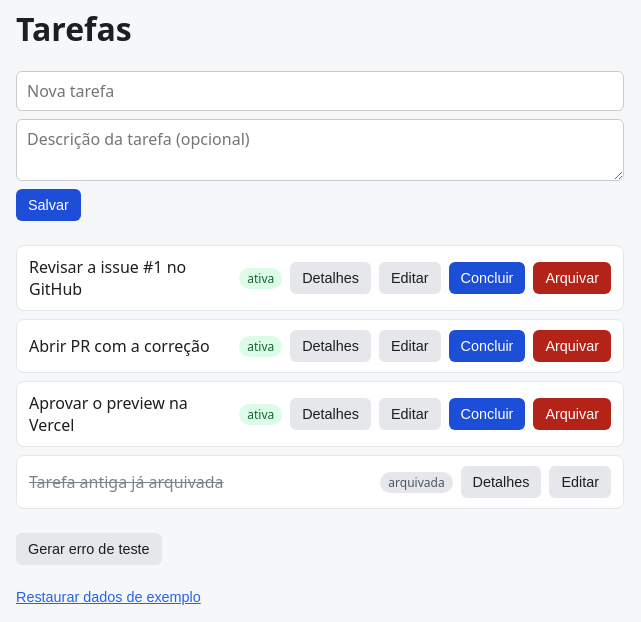
Test case: Page › arquiva uma tarefa ativa
Click the button "Arquivar" in the row of "Abrir PR com a correção" at (572, 346), box 533,330 -> 611,362
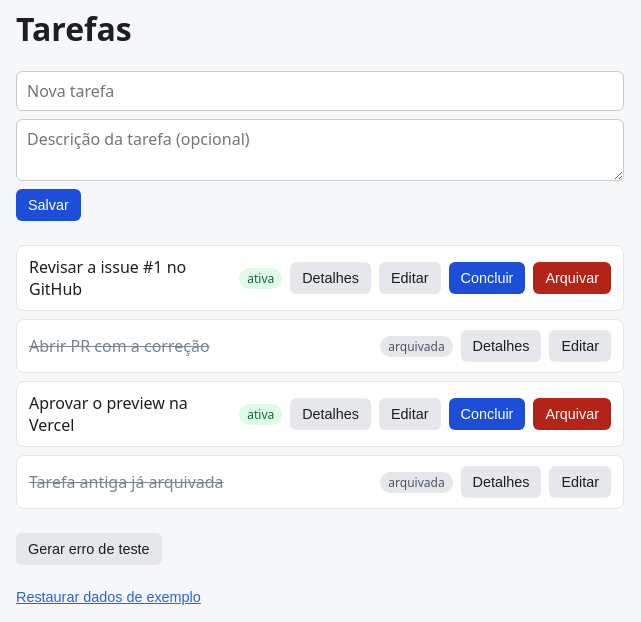
Expected: the text "arquivada" in the row of "Abrir PR com a correção" is shown, 388,338 -> 445,355
